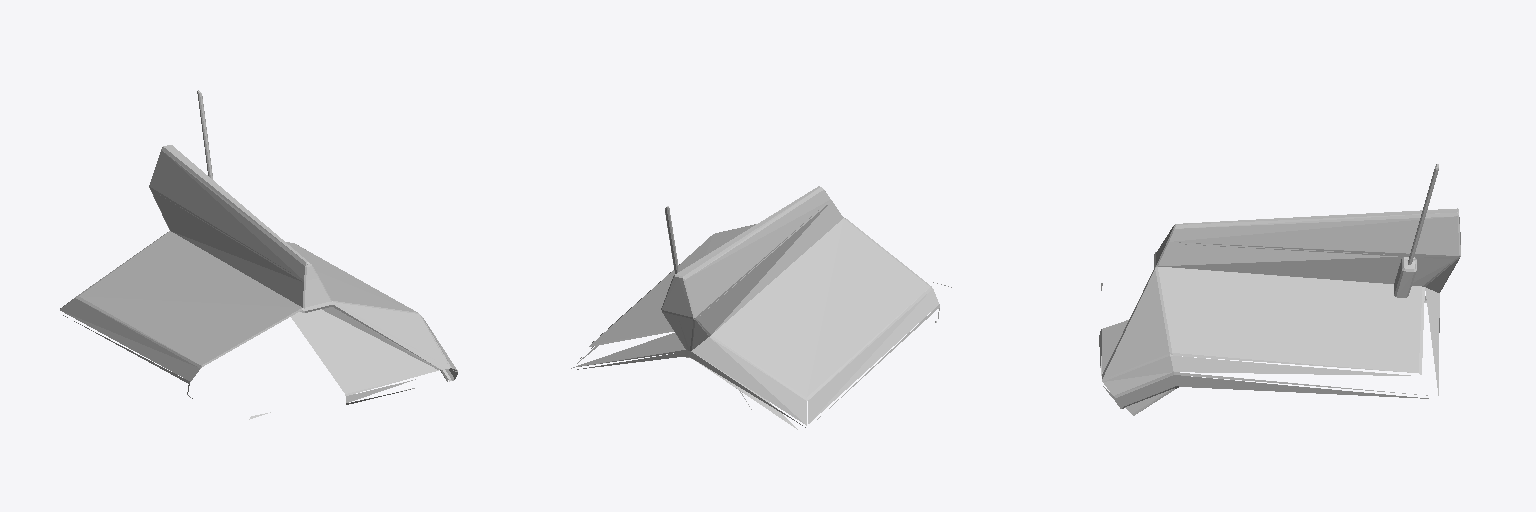
Rendered from shard7.obj.
3 views of the same model, side by side, from view 1: azimuth 30°, elevation 25°; view 2: azimuth 150°, elevation 25°; view 3: azimuth 270°, elevation 25° (orthographic).
Visible parts, largest first — view 1: defaultMaterial.005; view 2: defaultMaterial.005; view 3: defaultMaterial.005.
Part boxes in pixels (left/top/right/bottom): defaultMaterial.005: left=60, top=90, right=457, bottom=419; defaultMaterial.005: left=571, top=186, right=951, bottom=429; defaultMaterial.005: left=1099, top=164, right=1460, bottom=415.
Size of the model in its own units: 10.78 by 8.85 by 14.19.